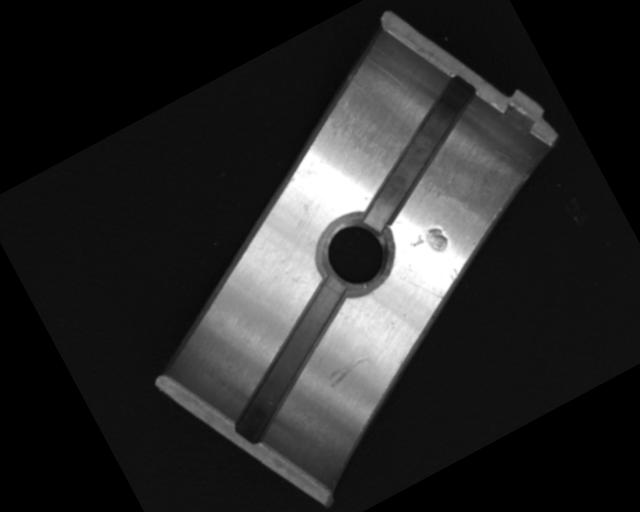bruise: (406, 222, 453, 265)
gap: (197, 274, 387, 447), (326, 73, 512, 234)
hole: (307, 204, 405, 305)
nick: (322, 348, 378, 390)
